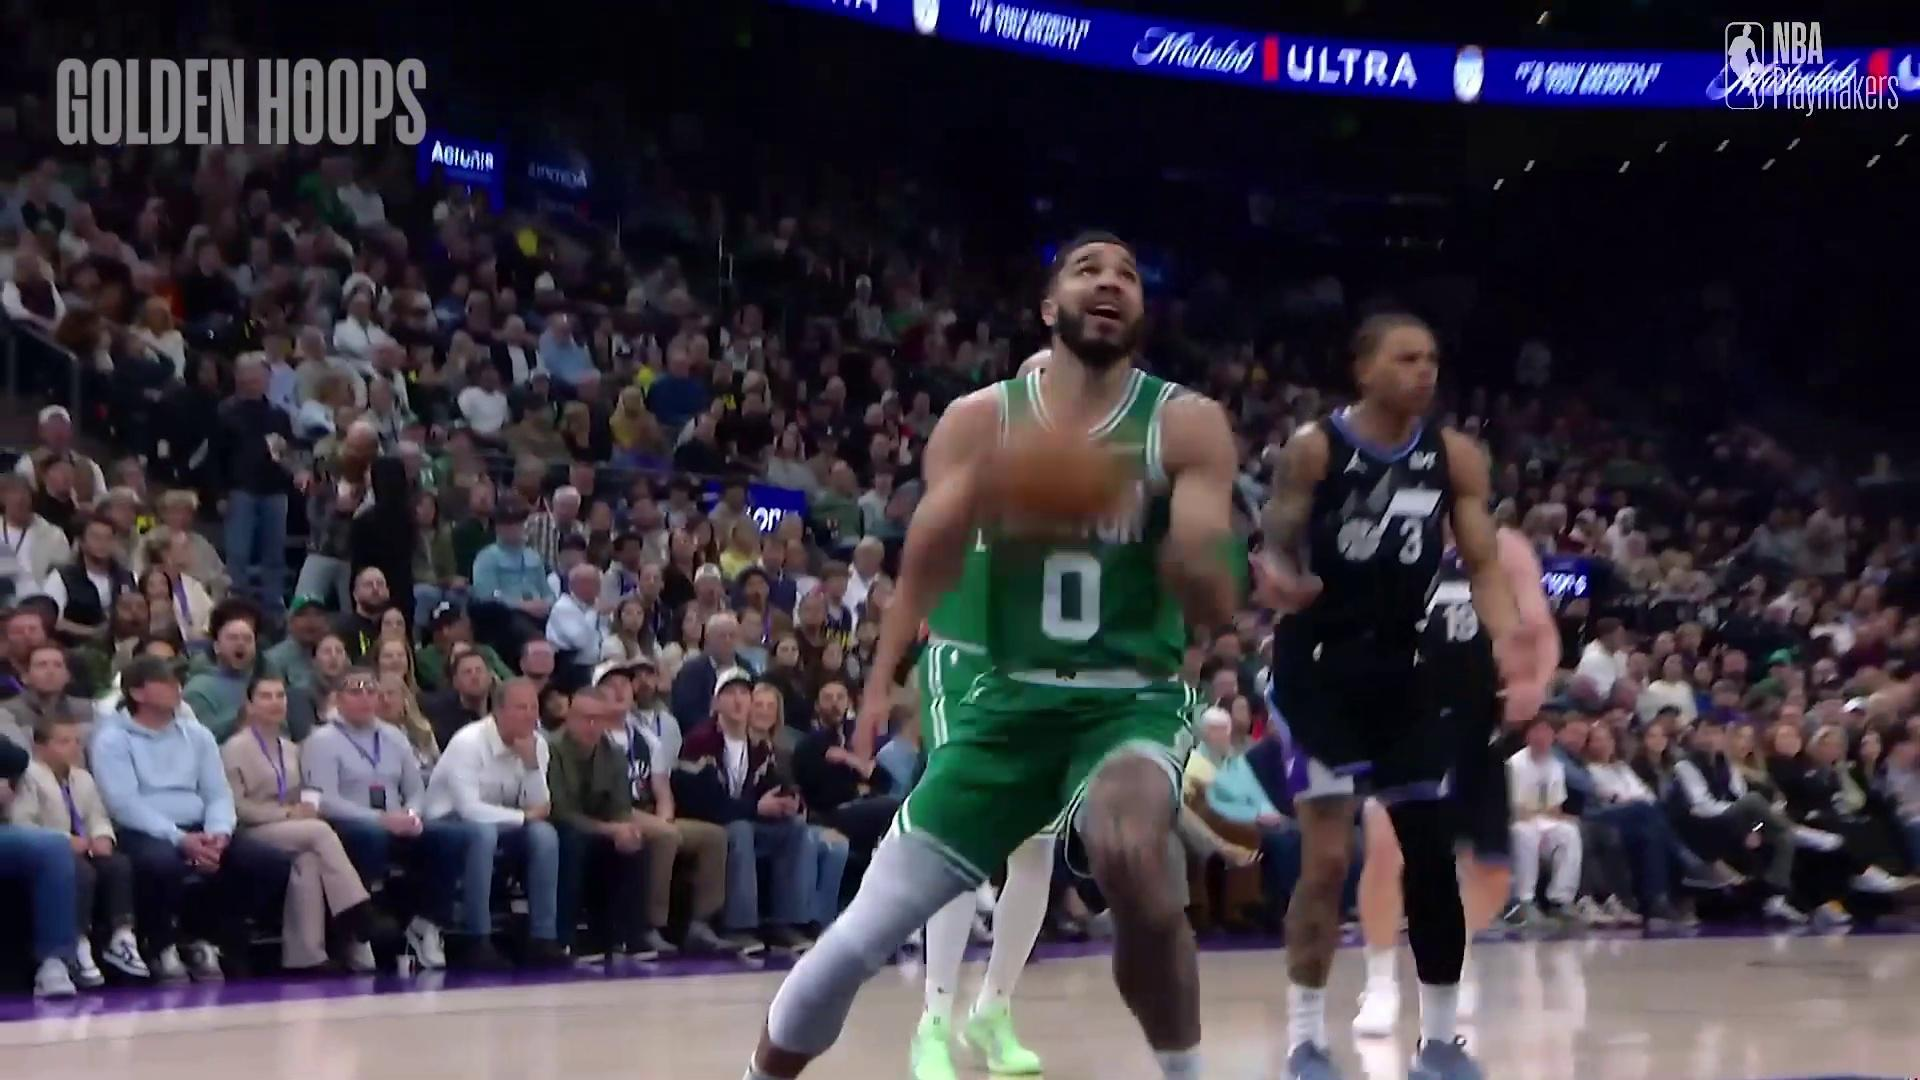ball: (985, 417, 1116, 541)
